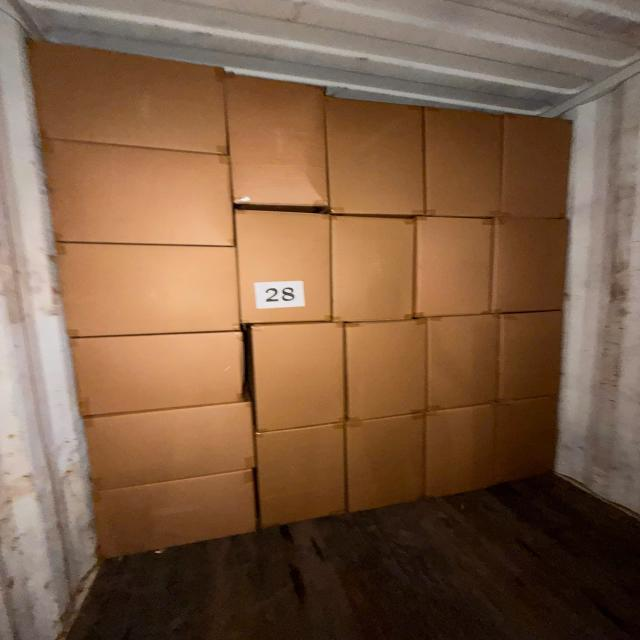Carton: (0, 136, 233, 243), (28, 37, 230, 155), (42, 240, 238, 337), (78, 398, 254, 489), (94, 470, 255, 564), (74, 338, 246, 422), (227, 75, 329, 210), (324, 96, 424, 216), (239, 210, 332, 327), (253, 318, 345, 431), (461, 392, 562, 493), (258, 422, 346, 532), (331, 216, 415, 324), (426, 107, 505, 218), (345, 319, 427, 422), (413, 216, 492, 320), (346, 411, 425, 514), (496, 218, 576, 316), (505, 111, 578, 216), (424, 398, 495, 498), (425, 315, 498, 412), (502, 316, 567, 409)
